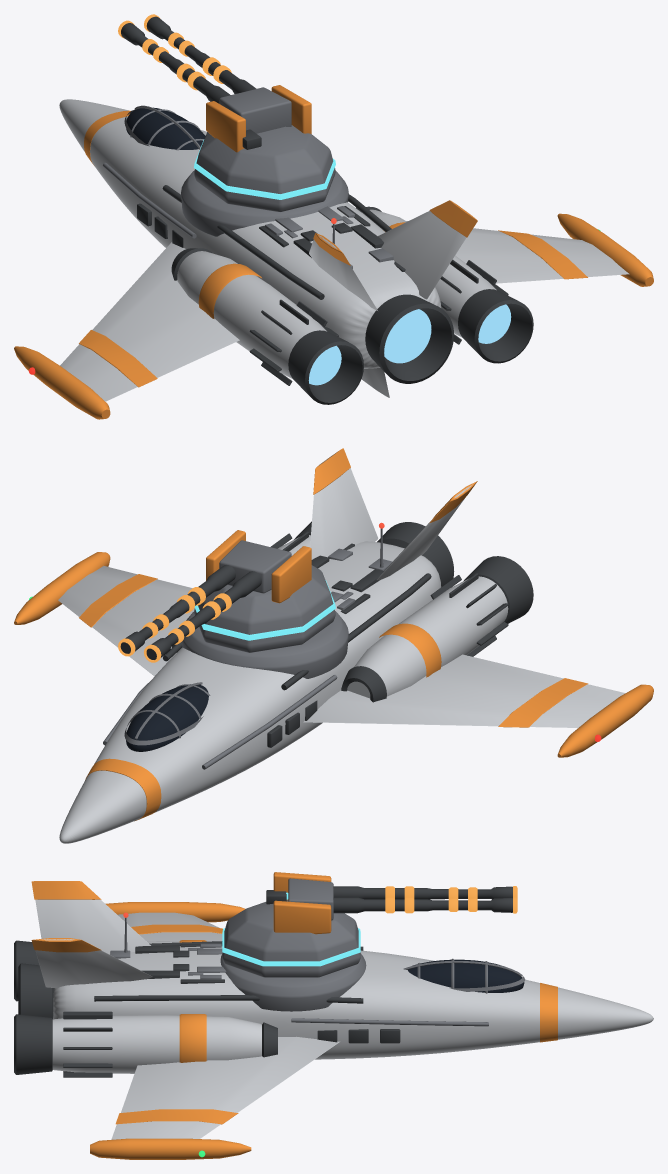
File: ship.glb
3 views of the same model, one above another, from view 1: azimuth 30°, elevation 25°; view 2: azimuth 150°, elevation 25°; view 3: azimuth 270°, elevation 25° (orthographic). The views are drawn at different scales.
Visible parts, largest first — view 1: Hull, Wing, Nacelle, TurretHousing, Nozzle, Fin, WingPod, MainNozzle, TurretBase, WingBand, TurretCheek, TurretMantlet (+12 smaller); view 2: Hull, Wing, Nacelle, TurretHousing, Fin, WingPod, TurretBase, Canopy, WingBand, Nozzle, TurretCheek, TurretMantlet (+11 smaller); view 3: Hull, Wing, Nacelle, Fin, TurretHousing, WingPod, TurretBase, Nozzle, TurretCheek, Canopy, WingBand, FinBand (+12 smaller).
Boxes of the visible parts, <box> form: Hull: <box>59,99,441,368</box>; Wing: <box>60,221,629,401</box>; Nacelle: <box>177,209,496,378</box>; TurretHousing: <box>194,125,335,211</box>; Nozzle: <box>288,289,533,404</box>; Fin: <box>309,211,467,310</box>; WingPod: <box>14,213,653,419</box>; MainNozzle: <box>365,294,454,383</box>; TurretBase: <box>181,170,348,236</box>; WingBand: <box>79,230,587,387</box>; TurretCheek: <box>206,85,311,152</box>; TurretMantlet: <box>219,87,291,133</box>; Hull: <box>59,541,441,843</box>; Wing: <box>58,566,625,727</box>; Nacelle: <box>178,535,508,698</box>; TurretHousing: <box>194,565,335,652</box>; Fin: <box>310,453,472,580</box>; WingPod: <box>14,552,653,757</box>; TurretBase: <box>182,611,348,678</box>; Canopy: <box>126,684,208,751</box>; WingBand: <box>79,574,588,727</box>; Nozzle: <box>294,521,533,623</box>; TurretCheek: <box>206,530,311,603</box>; TurretMantlet: <box>219,540,291,593</box>; Hull: <box>53,946,653,1059</box>; Wing: <box>111,912,339,1139</box>; Nacelle: <box>52,941,261,1073</box>; Fin: <box>35,899,152,988</box>; TurretHousing: <box>222,900,360,977</box>; WingPod: <box>90,902,251,1159</box>; TurretBase: <box>220,953,366,1011</box>; Nozzle: <box>14,940,52,1074</box>; TurretCheek: <box>273,872,331,934</box>; Canopy: <box>408,959,524,992</box>; WingBand: <box>115,924,238,1124</box>; FinBand: <box>31,881,101,952</box>.
Size of the model in its own units: 13.15 by 4.46 by 14.29.
